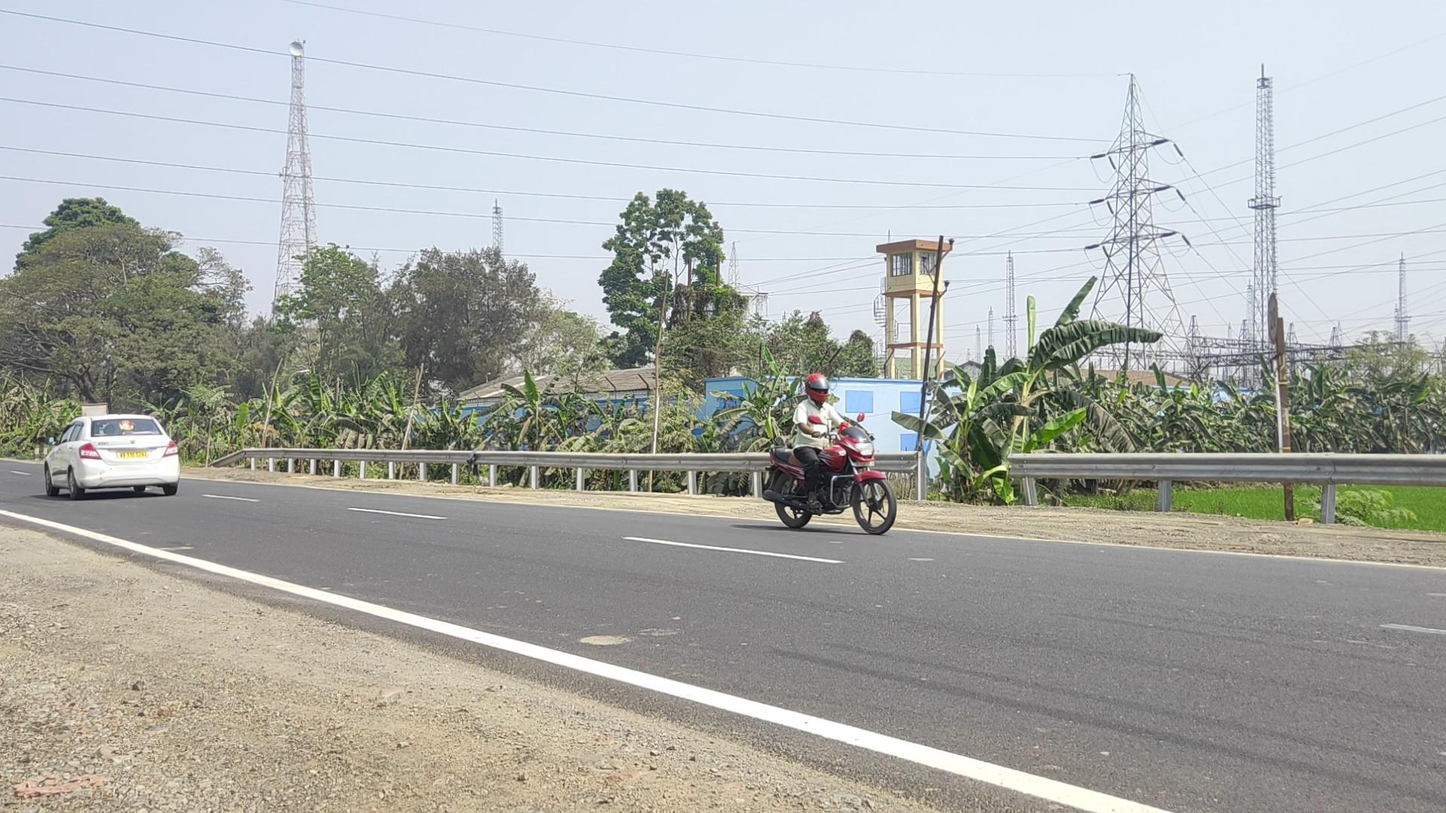bike: (762, 373, 897, 535)
car: (44, 413, 180, 500)
